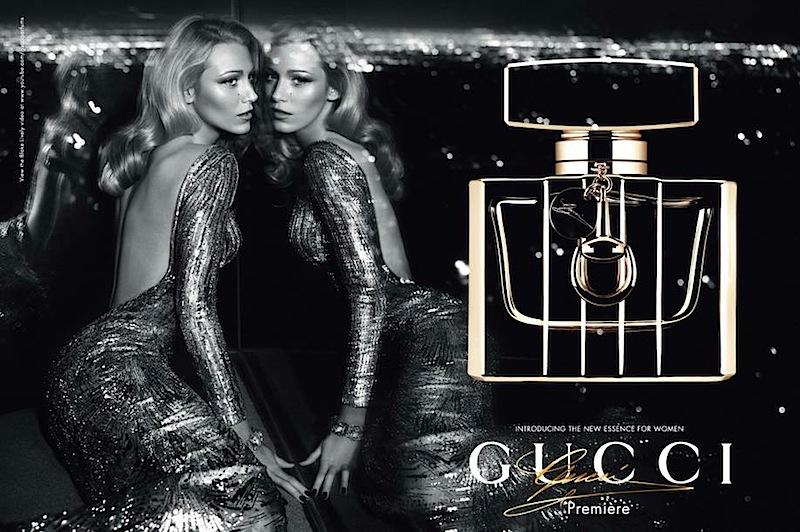GUCCI: (467, 439, 735, 489)
